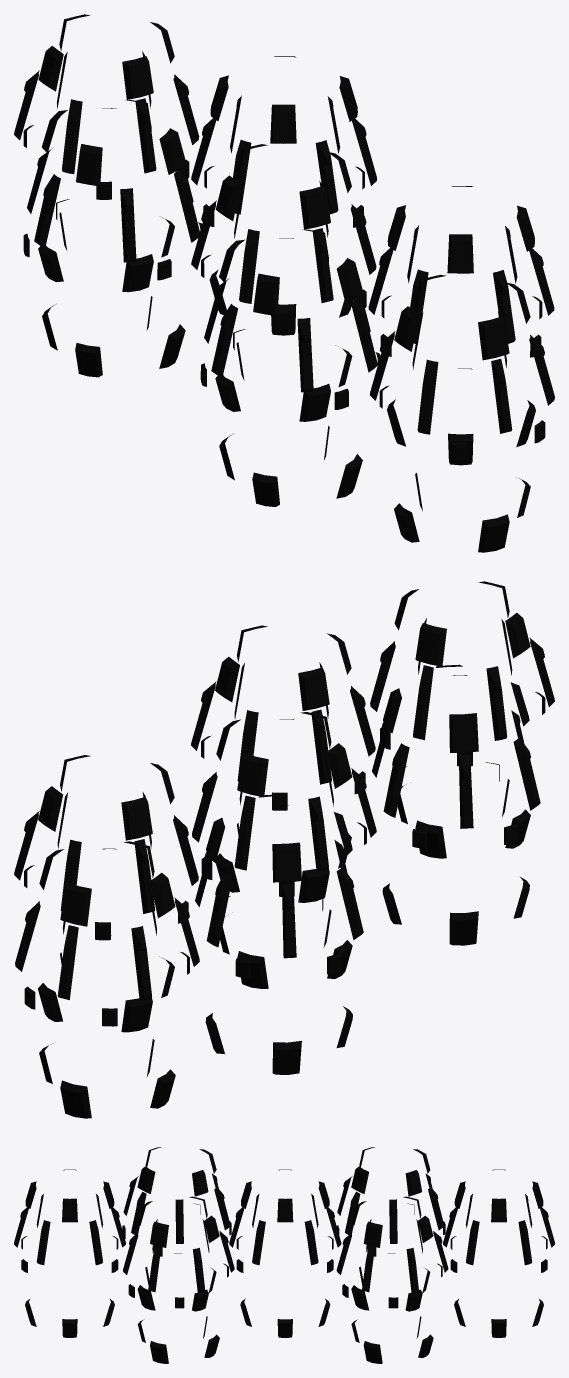
The model's file is prop_static_yao_container_01_01.glb.
3 views of the same model, one above another, from view 1: azimuth 30°, elevation 25°; view 2: azimuth 150°, elevation 25°; view 3: azimuth 270°, elevation 25° (orthographic). The views are drawn at different scales.
Parts seen in each view (by area): view 1: yao_container_01_01_LOD0; view 2: yao_container_01_01_LOD0; view 3: yao_container_01_01_LOD0.
Boxes of the visible parts, <box> form: yao_container_01_01_LOD0: <box>14,14,554,552</box>; yao_container_01_01_LOD0: <box>14,581,554,1118</box>; yao_container_01_01_LOD0: <box>14,1147,554,1363</box>.
Size of what is drawn, in the model's own units: 4.29 by 2.86 by 10.08.
Materials: 1 (1 with a texture image).
